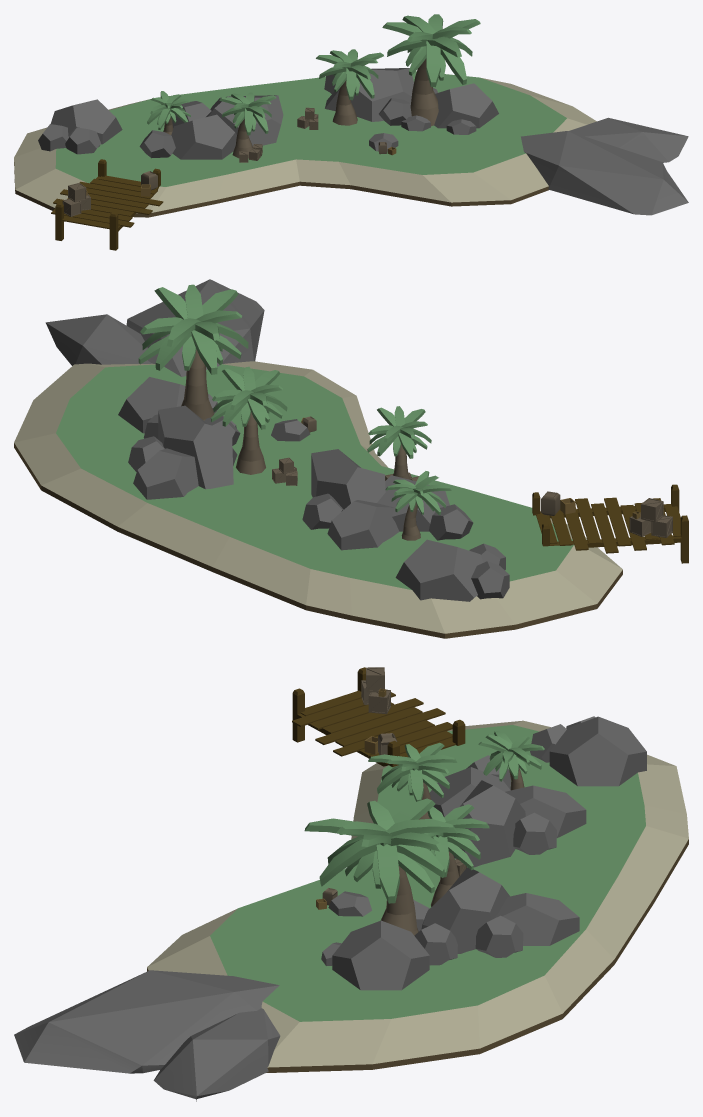
File: Island3WithMaterialsWithAssets.fbx
3 views of the same model, one above another, from view 1: azimuth 30°, elevation 25°; view 2: azimuth 150°, elevation 25°; view 3: azimuth 270°, elevation 25° (orthographic). The views are drawn at different scales.
Visible parts, largest first — view 1: pPlatonic54; view 2: pPlatonic54; view 3: pPlatonic54.
Boxes of the visible parts, x1,y1,x2,y2 form: pPlatonic54: (14, 14, 688, 250); pPlatonic54: (14, 279, 688, 638); pPlatonic54: (14, 667, 688, 1101).
Size of the model in its own units: 6.7 by 1.32 by 4.89.
